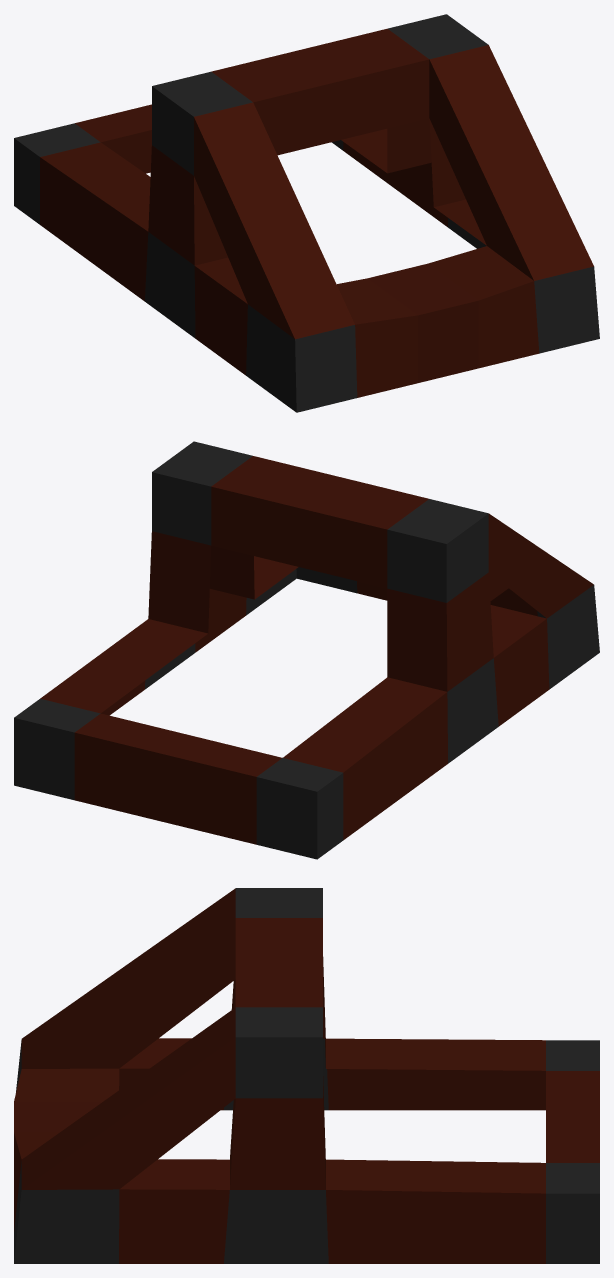
The model's file is catapult_body.obj.
3 renders of one model, top to bottom at view 1: azimuth 30°, elevation 25°; view 2: azimuth 150°, elevation 25°; view 3: azimuth 270°, elevation 25°, orthographic. The views are drawn at different scales.
Visible parts, largest first — view 1: catapult_body; view 2: catapult_body; view 3: catapult_body.
Part boxes in pixels (x1,y1,x2,y2): catapult_body: (14, 14, 599, 412); catapult_body: (14, 441, 599, 859); catapult_body: (14, 888, 599, 1263).
Bounding box in the file's own units: 0.5099 × 0.348 × 0.8233.
